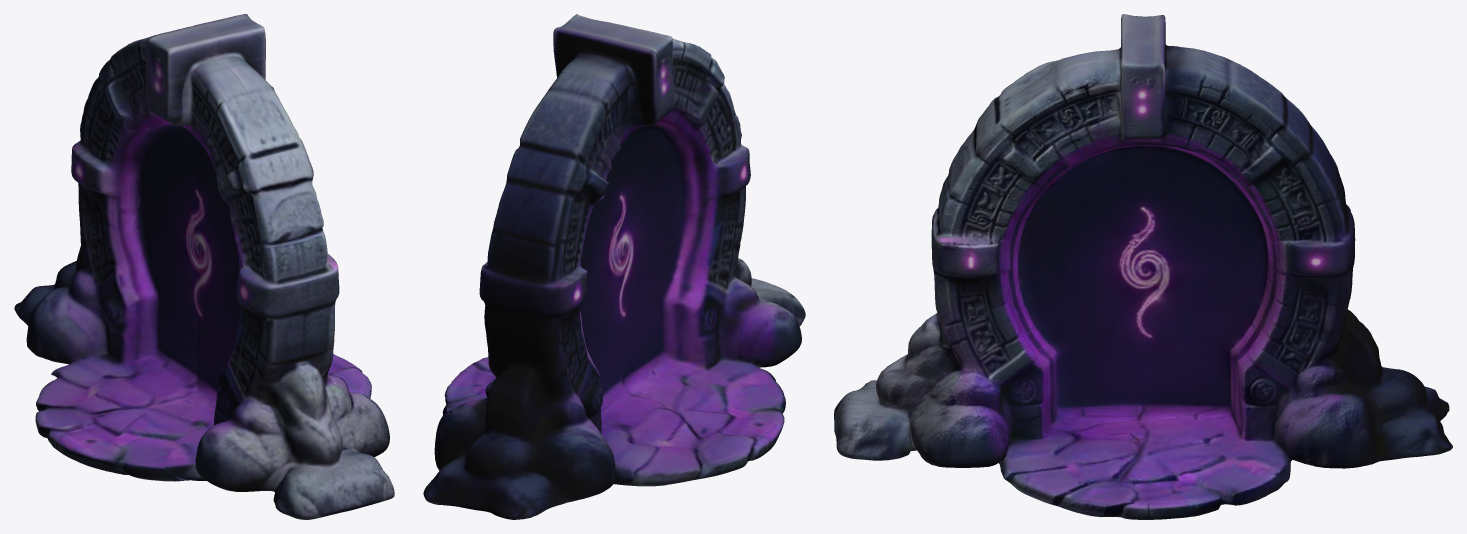
The model's file is labyrinth_portal.glb.
3 views of the same model, side by side, from view 1: azimuth 30°, elevation 25°; view 2: azimuth 150°, elevation 25°; view 3: azimuth 270°, elevation 25° (orthographic). The views are drawn at different scales.
Visible parts, largest first — view 1: tripo_node_b01f6091-b623-49c2-9054-b06da74d6166; view 2: tripo_node_b01f6091-b623-49c2-9054-b06da74d6166; view 3: tripo_node_b01f6091-b623-49c2-9054-b06da74d6166.
Part boxes in pixels (bbox=[...]): tripo_node_b01f6091-b623-49c2-9054-b06da74d6166: bbox=[14, 14, 394, 519]; tripo_node_b01f6091-b623-49c2-9054-b06da74d6166: bbox=[423, 14, 805, 519]; tripo_node_b01f6091-b623-49c2-9054-b06da74d6166: bbox=[834, 14, 1452, 519].
Size of the model in its own units: 0.4714 by 0.609 by 0.7876.
Materials: 1 (1 with a texture image).
